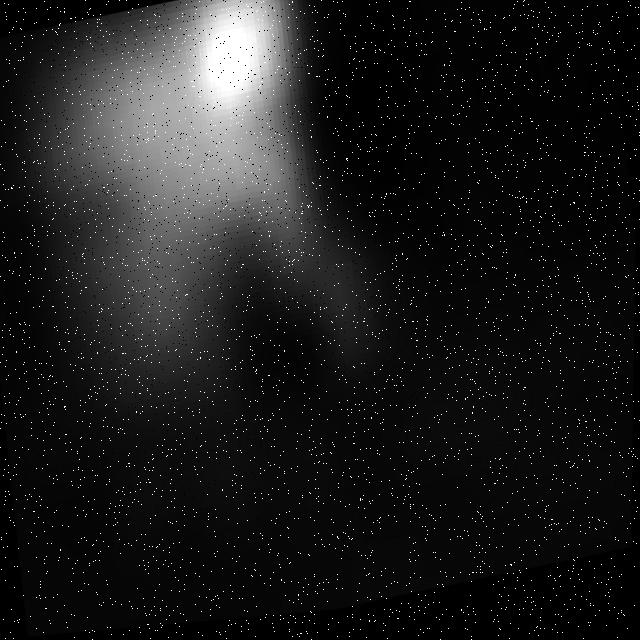person: (11, 1, 381, 481)
